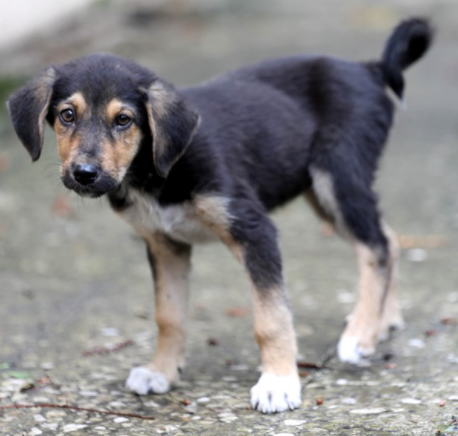dog: (8, 17, 438, 395)
